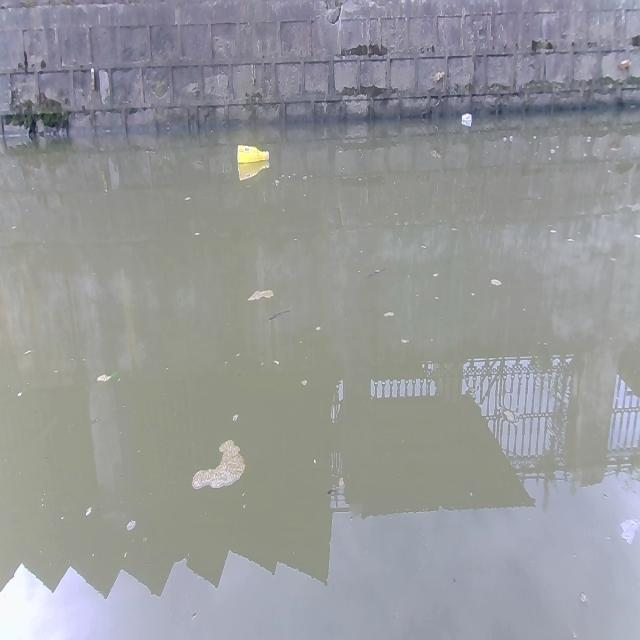bottle: (236, 144, 270, 166), (461, 110, 471, 126)
